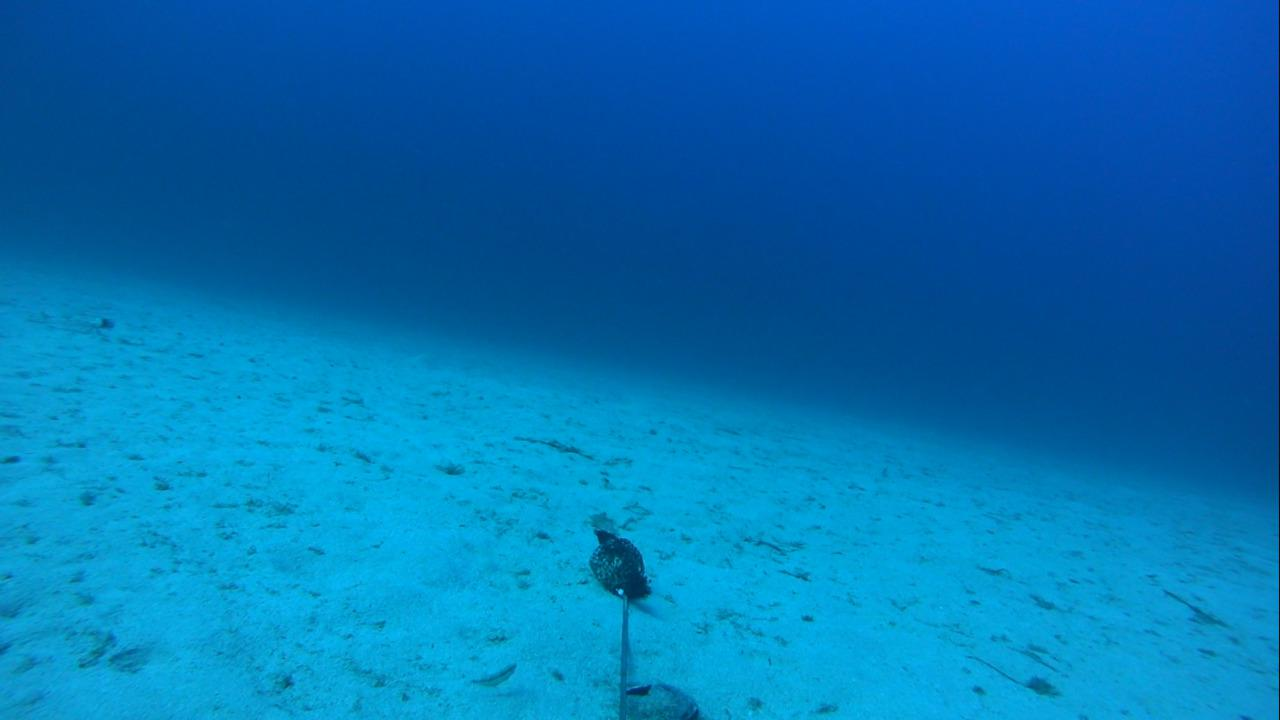dactylopterus: (16, 294, 123, 345)
